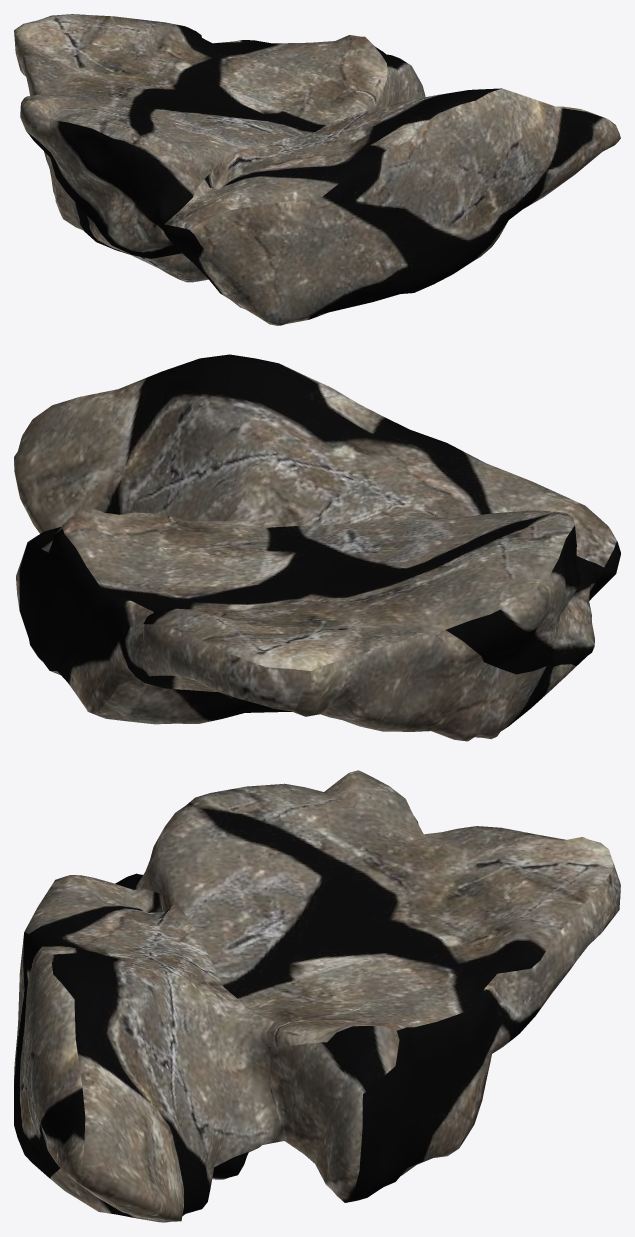
The model's file is rock9.glb.
The picture shows the model from 3 angles, top to bottom: view 1: azimuth 30°, elevation 25°; view 2: azimuth 150°, elevation 25°; view 3: azimuth 270°, elevation 25°; orthographic projection. The views are drawn at different scales.
Visible parts, largest first — view 1: Rock9; view 2: Rock9; view 3: Rock9.
Part boxes in pixels (<box>): Rock9: <box>14,14,620,325</box>; Rock9: <box>14,354,620,741</box>; Rock9: <box>14,770,620,1222</box>.
Size of the model in its own units: 6.57 by 2.19 by 5.34.
Materials: 1 (1 with a texture image).
